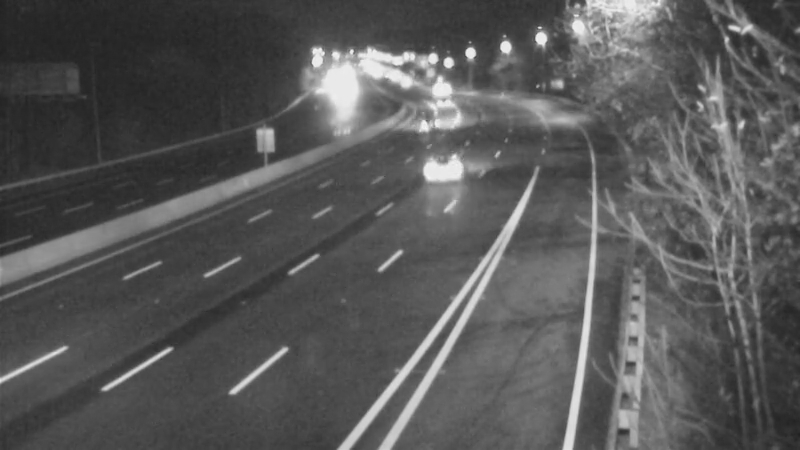vehicle: (406, 127, 486, 207), (413, 60, 463, 110), (417, 79, 467, 129), (406, 100, 456, 150), (313, 69, 363, 119)
